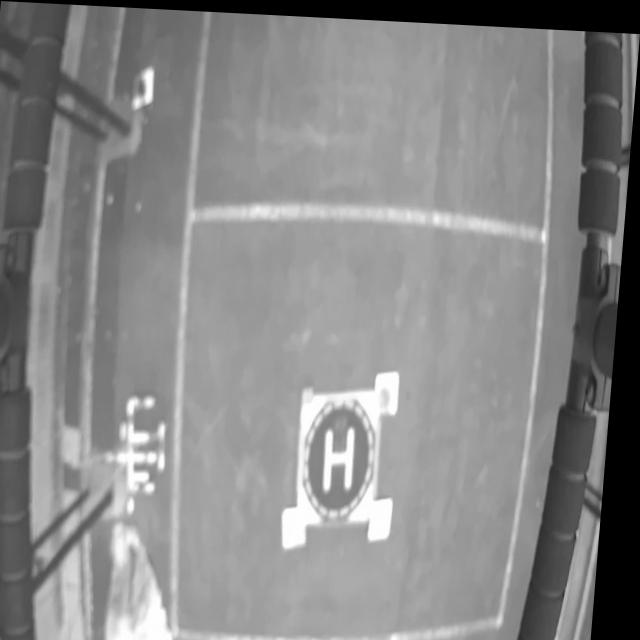Helipad: (329, 422, 361, 488)
